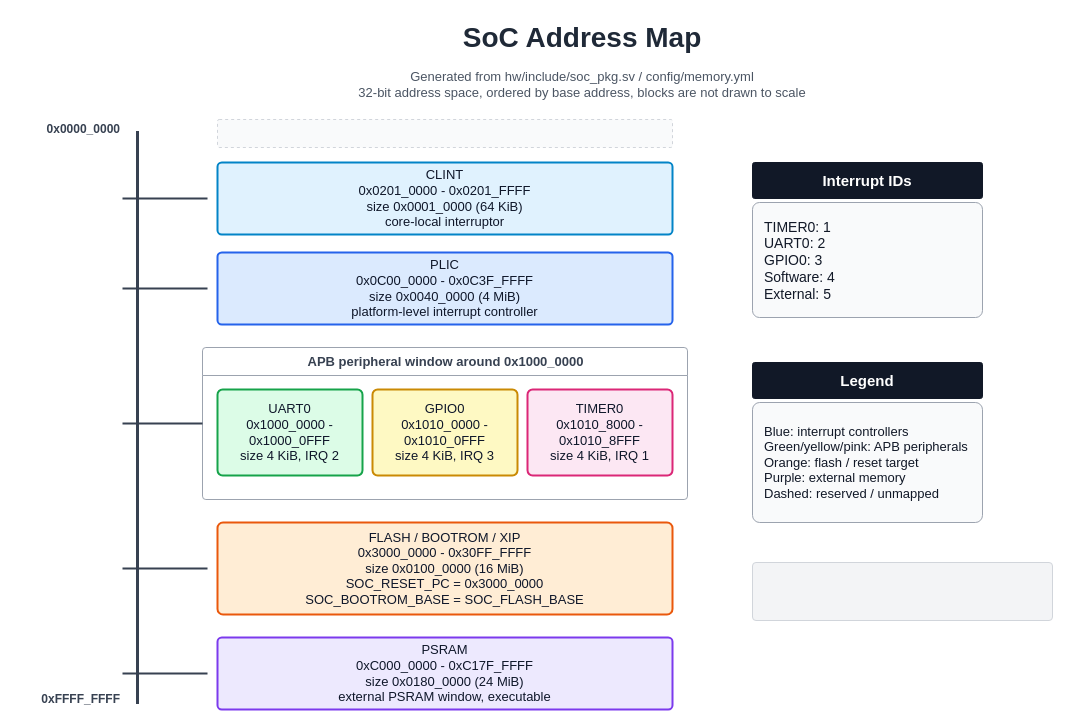
Image size: 1070x728. Some labels were removed from this diagram. The shapes that lost their labels are listed below. From the top down, each one's centre as x and y in pixels, then its label:
At pixel 444 133: "Reserved / unmapped low address space".
At pixel 902 591: "Source constants: SOC_*_BASE, SOC_*_SIZE, SOC_*_IRQ in hw/include/soc_pkg.sv".
